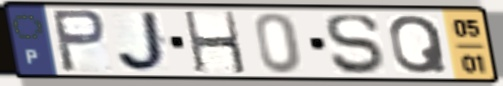0: (251, 10, 306, 76)
H: (180, 10, 250, 76)
J: (114, 10, 172, 74)
P: (48, 8, 110, 75)
Q: (387, 13, 451, 76)
S: (322, 12, 386, 77)
